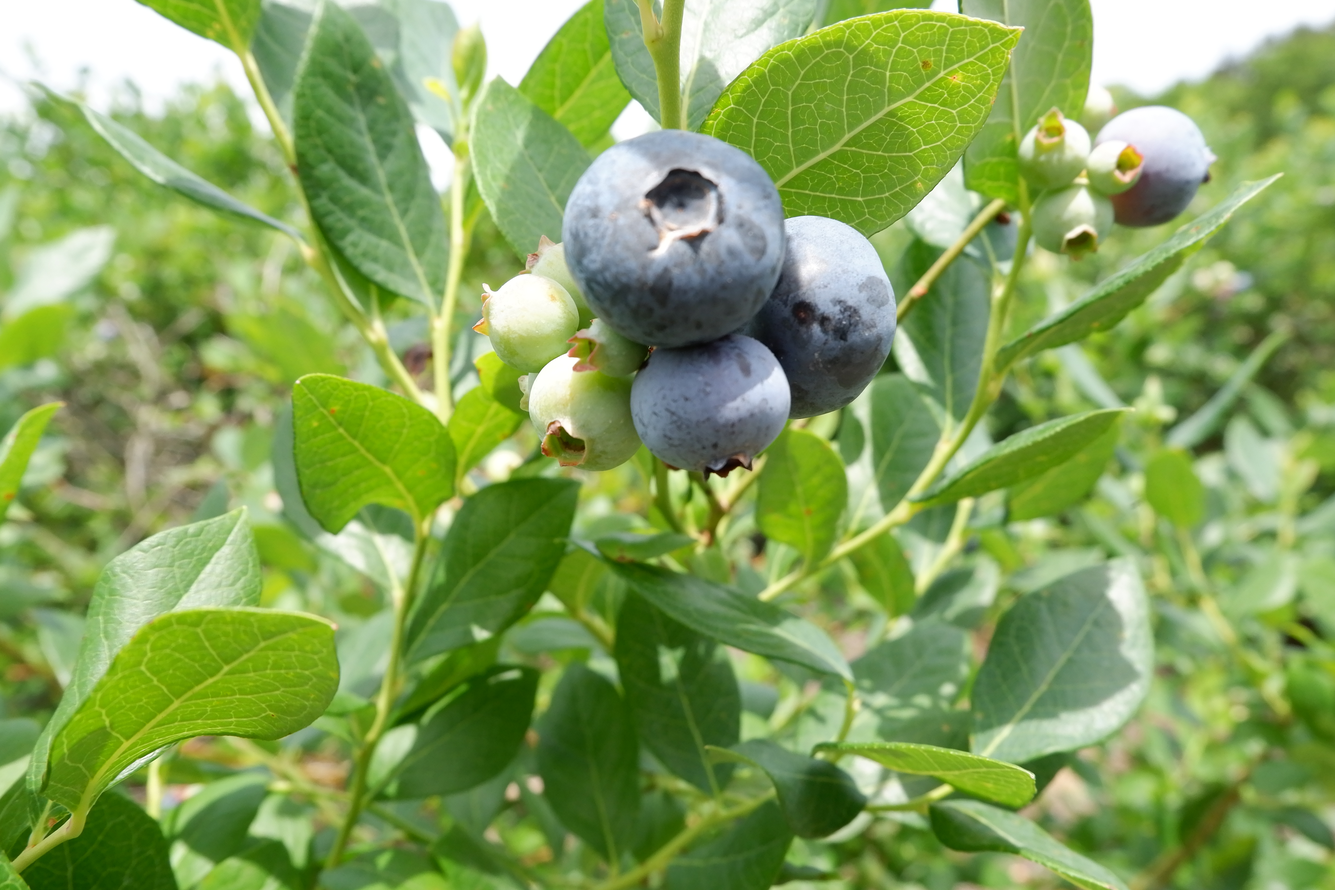Immature: (531, 352, 639, 472), (475, 277, 576, 370), (1035, 183, 1111, 253), (1020, 112, 1091, 186), (528, 238, 587, 311), (573, 319, 649, 374), (1086, 140, 1144, 198)
Mature: (563, 135, 785, 343), (752, 215, 895, 420), (633, 335, 791, 471), (1095, 109, 1213, 223)
